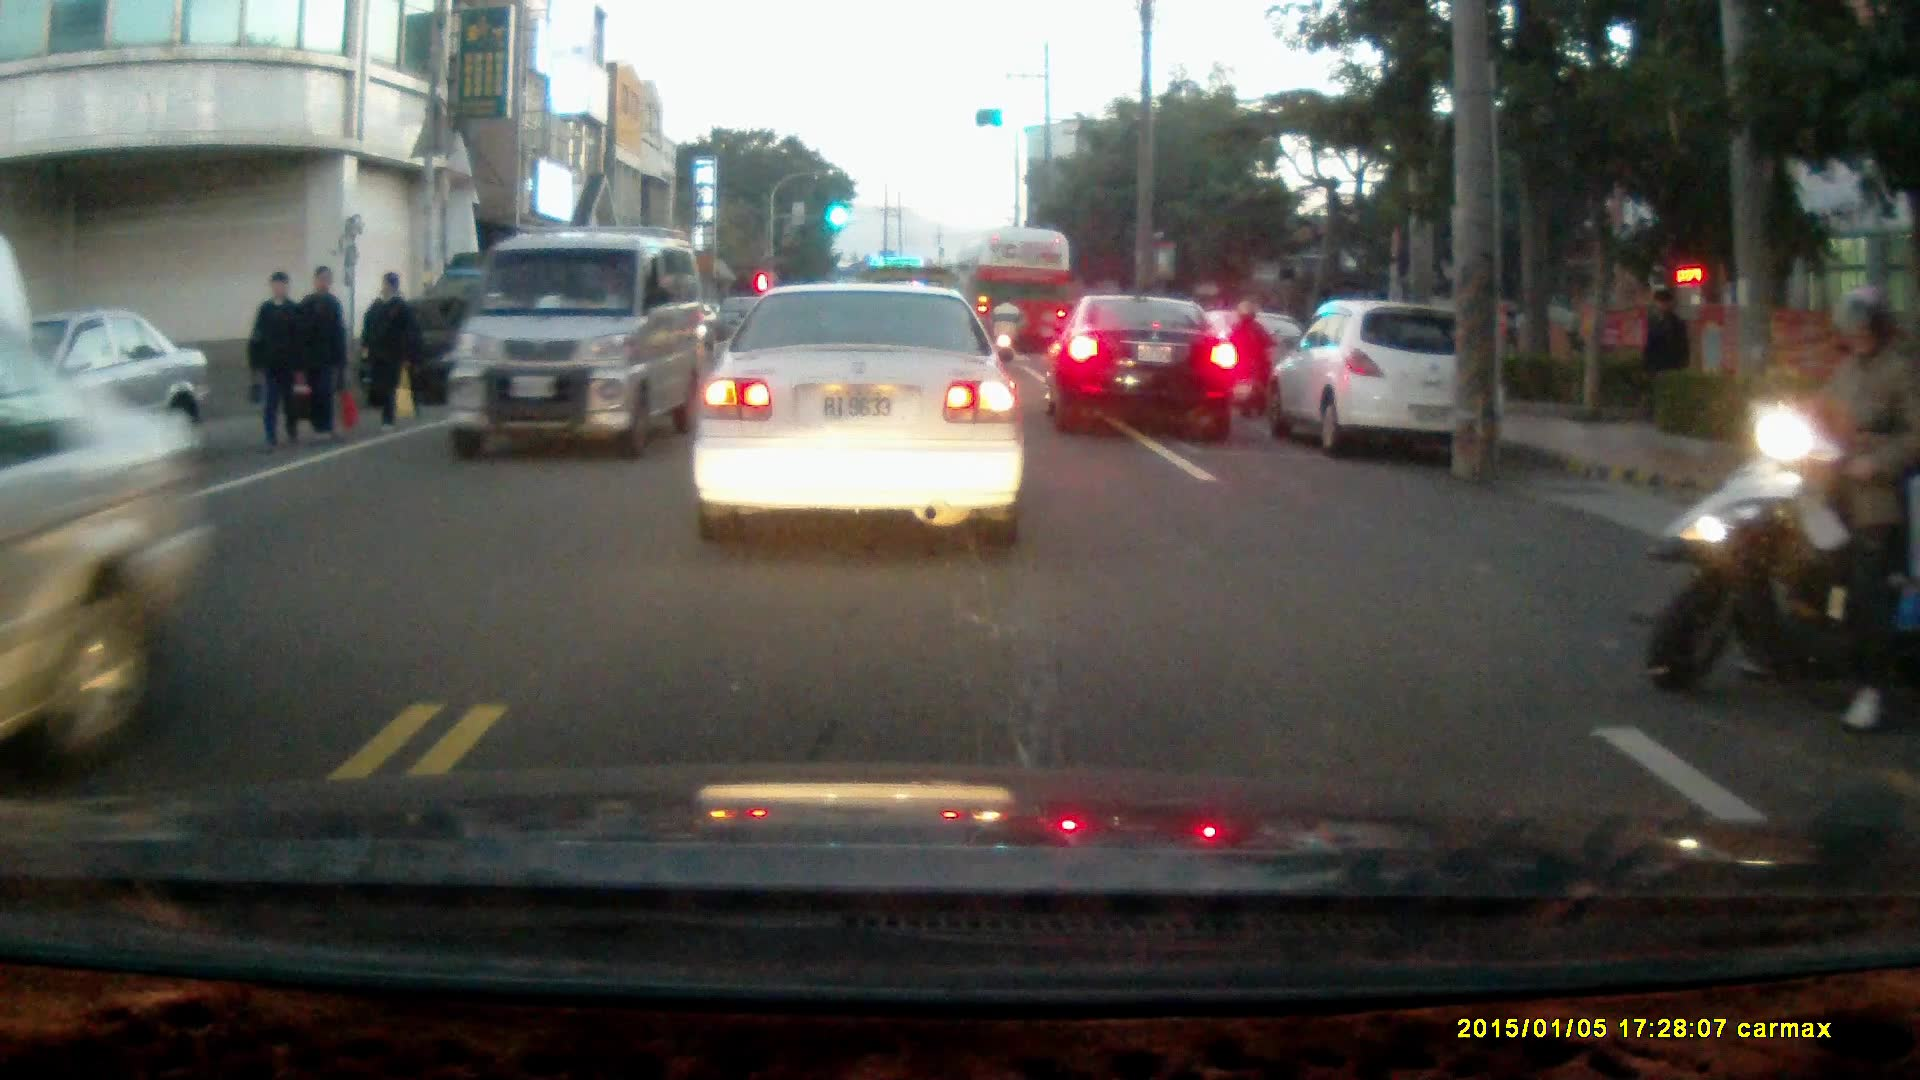pedestrian: (277, 262, 343, 459), (243, 266, 309, 455), (356, 268, 418, 431), (1641, 286, 1696, 427)
rider: (1652, 286, 1918, 722), (1226, 297, 1279, 419), (987, 291, 1026, 372)
vehicle: (1, 346, 220, 771), (690, 281, 1029, 550), (446, 227, 708, 463), (1263, 296, 1507, 465), (1046, 297, 1244, 443), (369, 294, 535, 411), (972, 224, 1072, 367)
